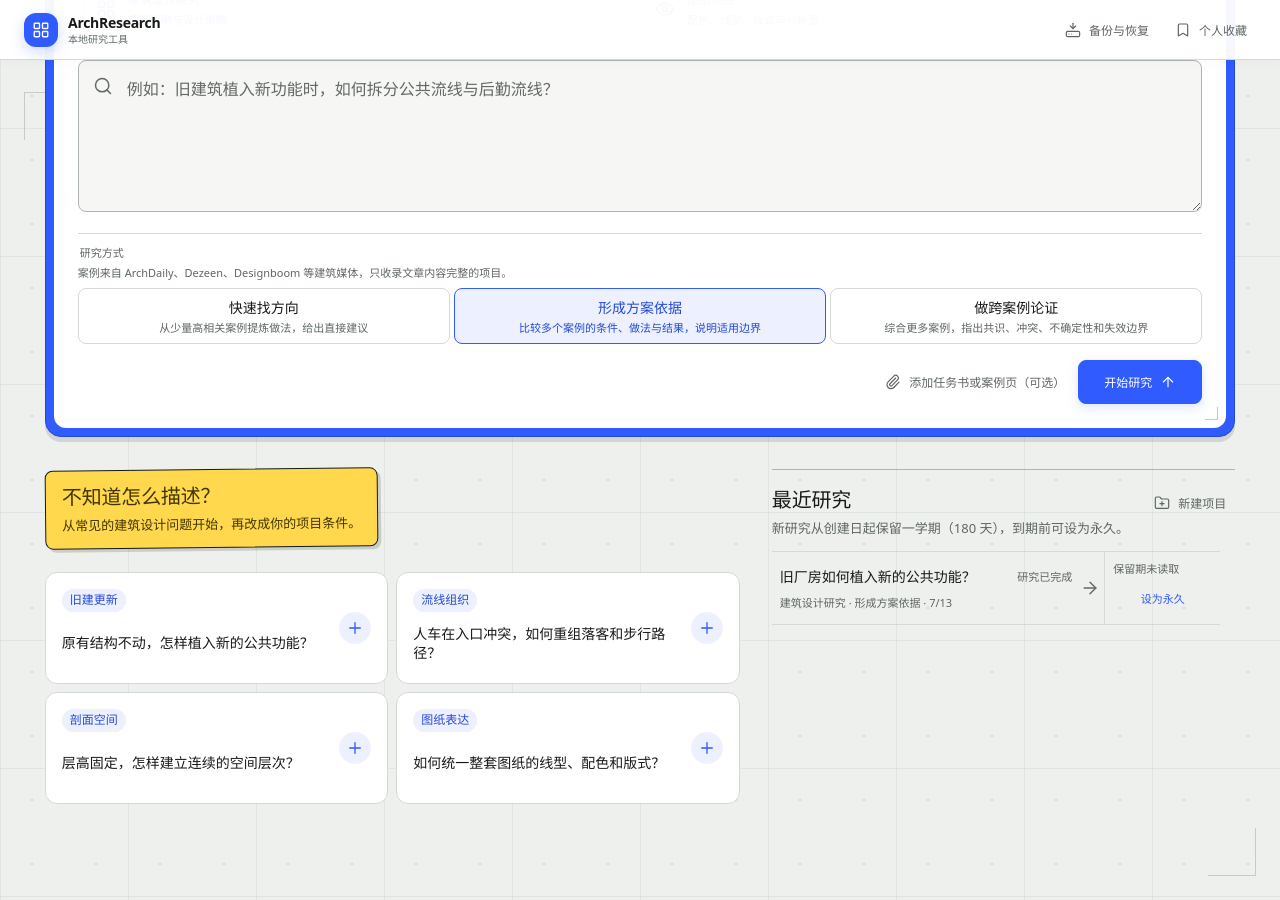
Scenario: research board › presents completed case results without research, verification, or source metadata
The image size is (1280, 900).
(page scrolled)
Click the button "旧厂房如何植入新的公共功能？ 建筑设计研究 · 形成方案依据 · 7/13 研究已完成": coordinates (938, 588) [772,552,1104,624]
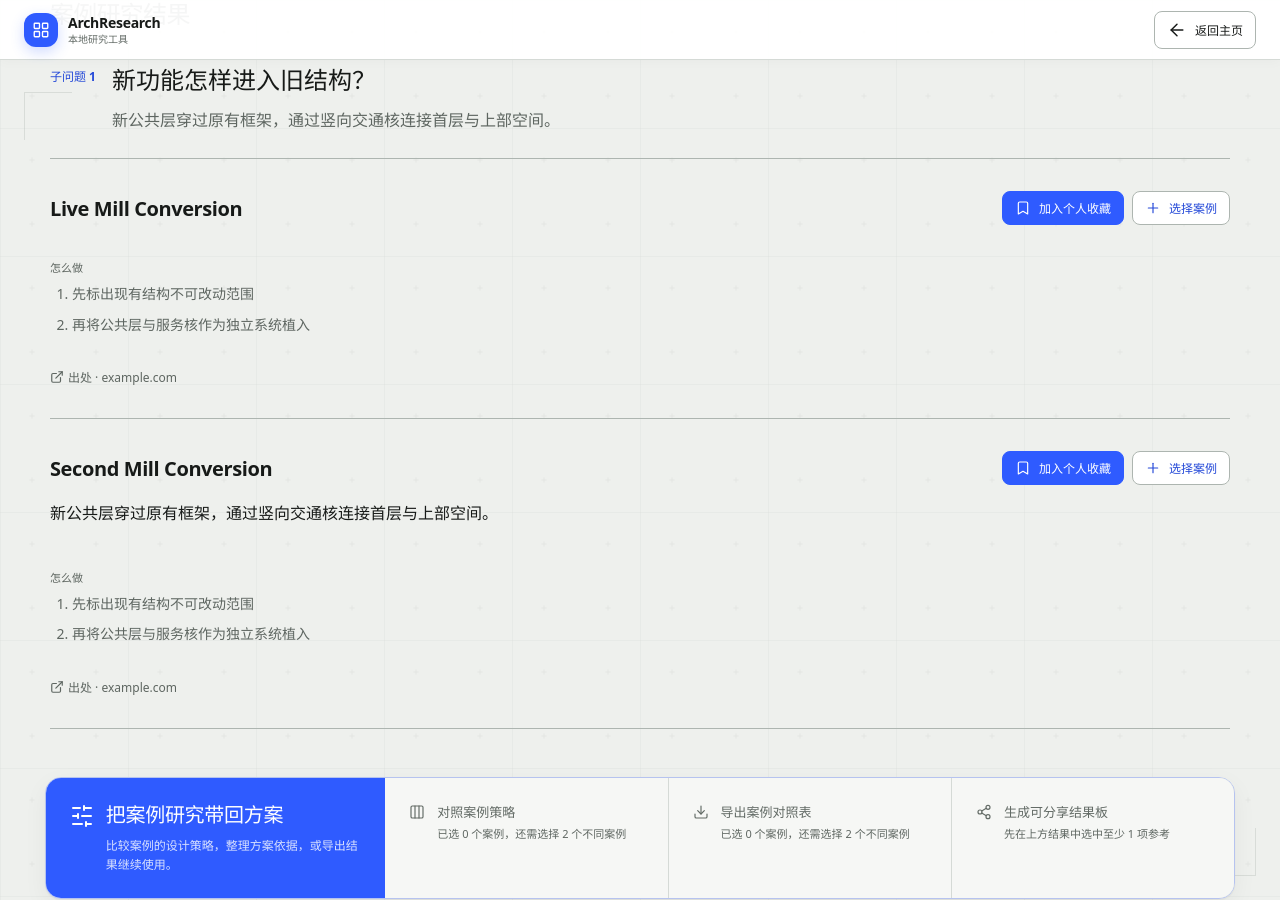
Check: the element named "代表案例 Live Mill Conversion" is shown, box [50,159,1230,418]
Check: the element named "代表案例 Second Mill Conversion" is shown, box [50,419,1230,728]
Check: the text "ArchDaily" is gone
